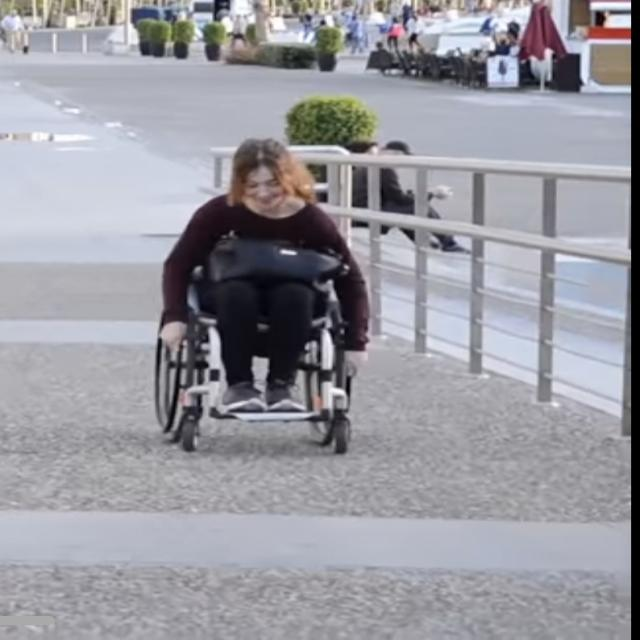wheelchairs: (154, 244, 357, 453)
